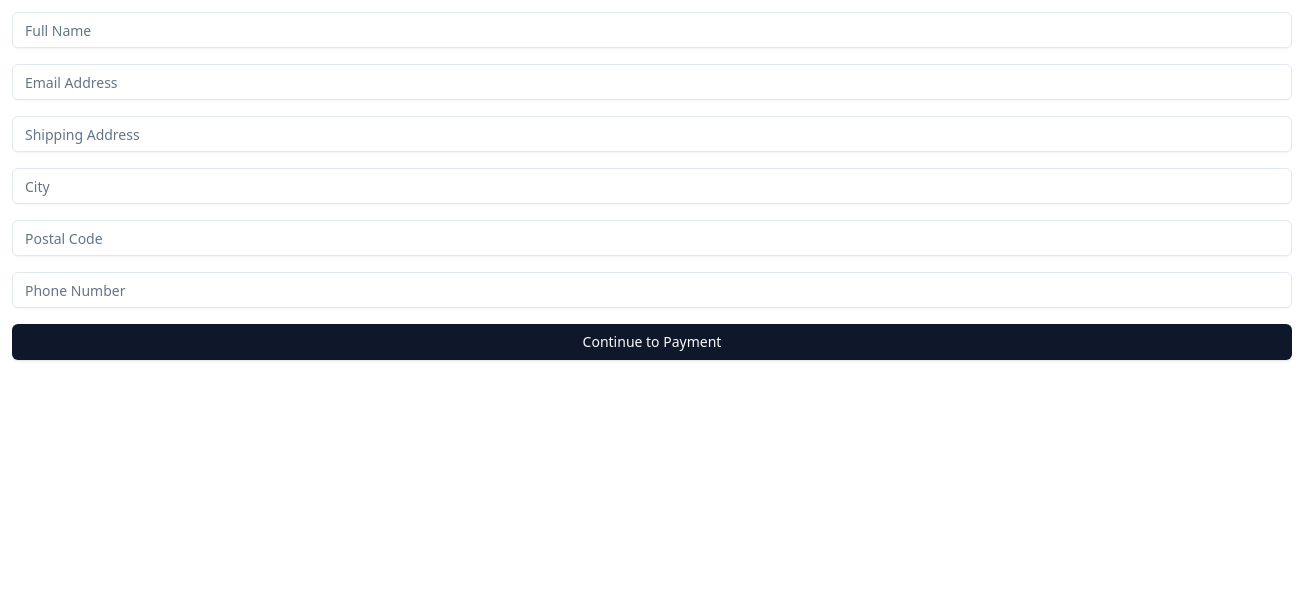
Scenario: ShippingForm › shows validation errors when submitting empty form
Click the button "Continue to Payment": (652, 342) [12,324,1292,360]
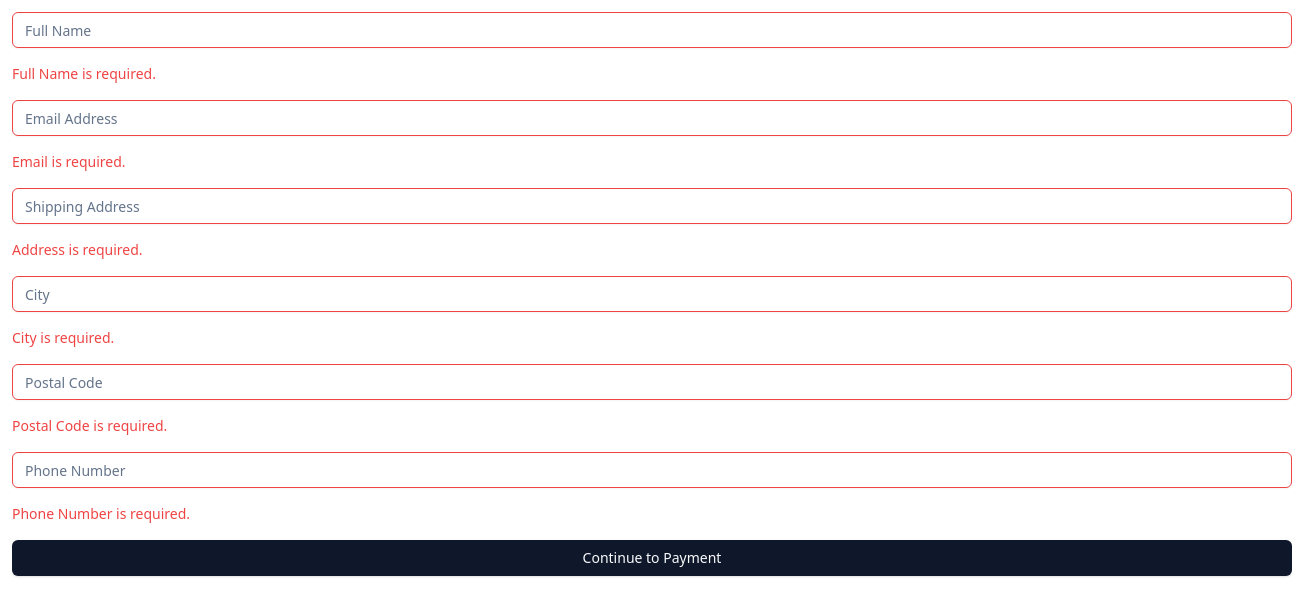
Result: the text "Full Name is required." is shown at [12,64,156,83]
Result: the text "Email is required." is shown at [12,152,126,171]
Result: the text "Address is required." is shown at [12,240,143,259]
